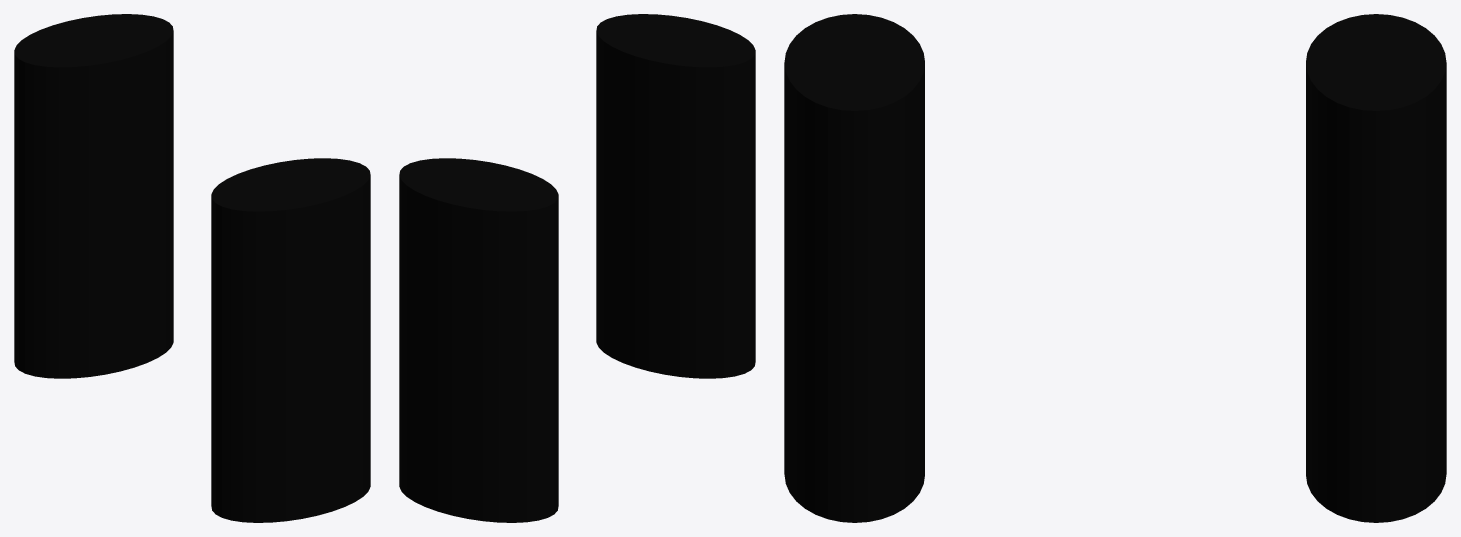
Rendered from hokakuteki_eyes.fbx.
3 views of the same model, side by side, from view 1: azimuth 30°, elevation 25°; view 2: azimuth 150°, elevation 25°; view 3: azimuth 270°, elevation 25° (orthographic). The views are drawn at different scales.
Parts seen in each view (by area): view 1: 立方体.003, 立方体.004; view 2: 立方体.003, 立方体.004; view 3: 立方体.003, 立方体.004.
Part boxes in pixels (x1=…): 立方体.003: x1=14, y1=14, x2=173, y2=378; 立方体.004: x1=211, y1=158, x2=370, y2=522; 立方体.003: x1=399, y1=158, x2=558, y2=522; 立方体.004: x1=596, y1=14, x2=755, y2=378; 立方体.003: x1=1306, y1=14, x2=1446, y2=522; 立方体.004: x1=784, y1=14, x2=924, y2=522.
Bounding box in the file's own units: 162 × 56.25 × 111.
